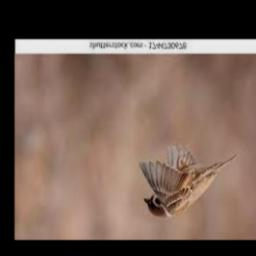Sparrow: (140, 144, 238, 218)
